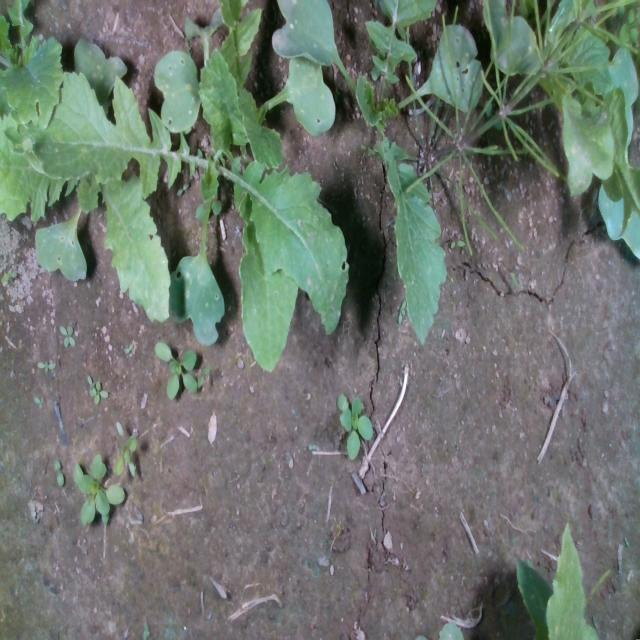weed: (59, 323, 76, 348), (52, 457, 64, 487), (35, 358, 57, 372), (32, 393, 46, 410)
